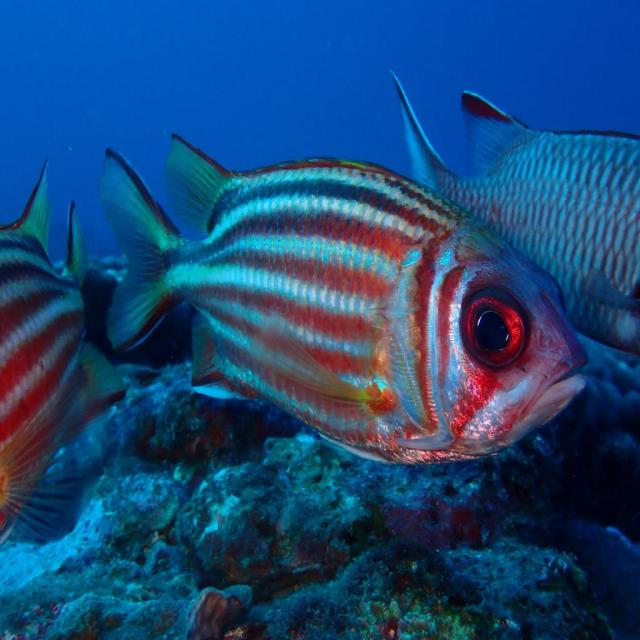Asker Baligi: (98, 129, 590, 468)
